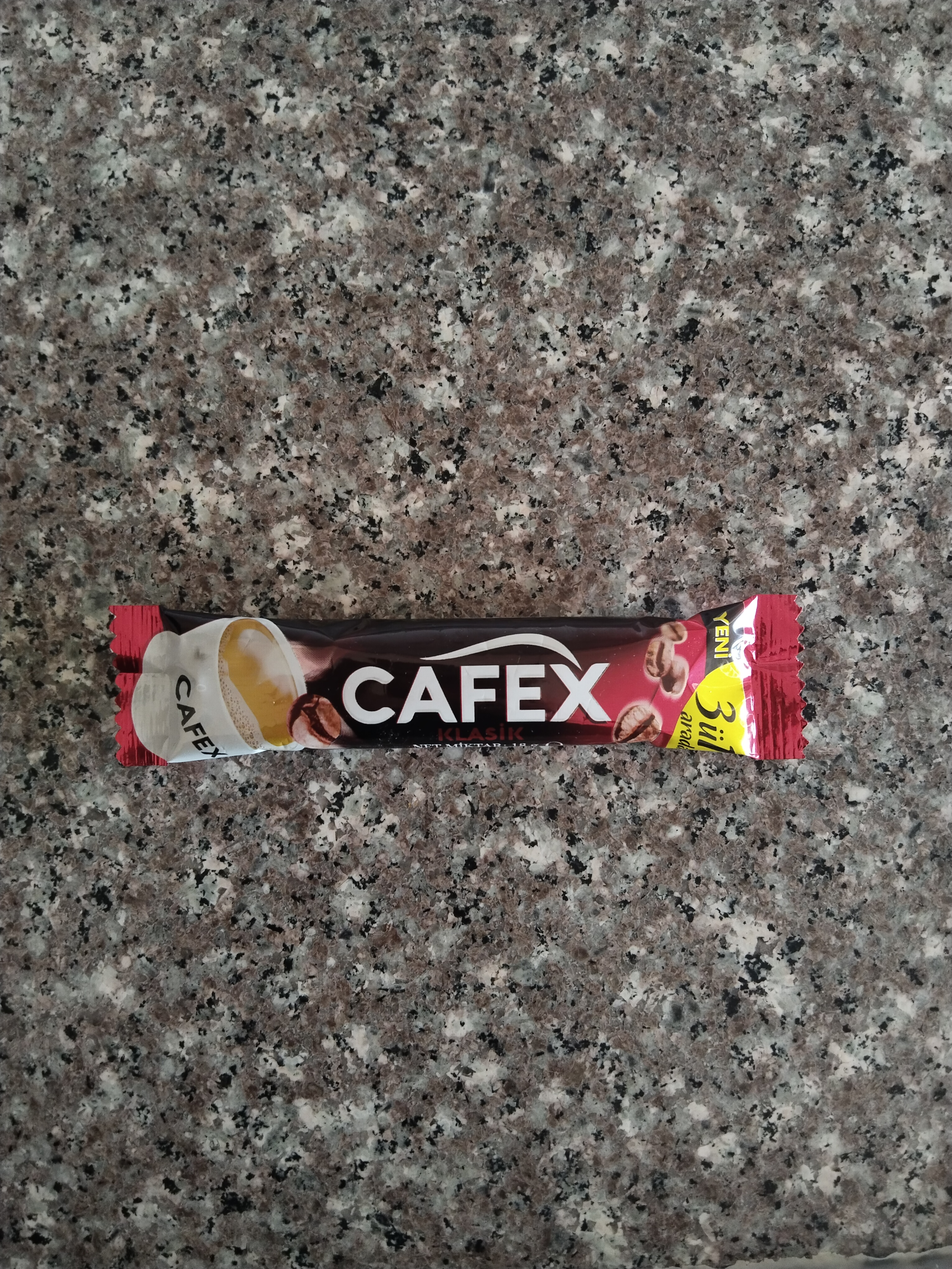cafex_kahve: (115, 590, 806, 764)
